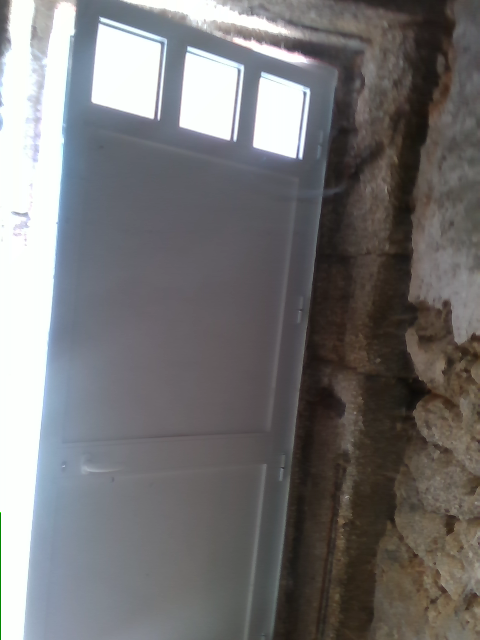closed: (3, 5, 340, 635)
